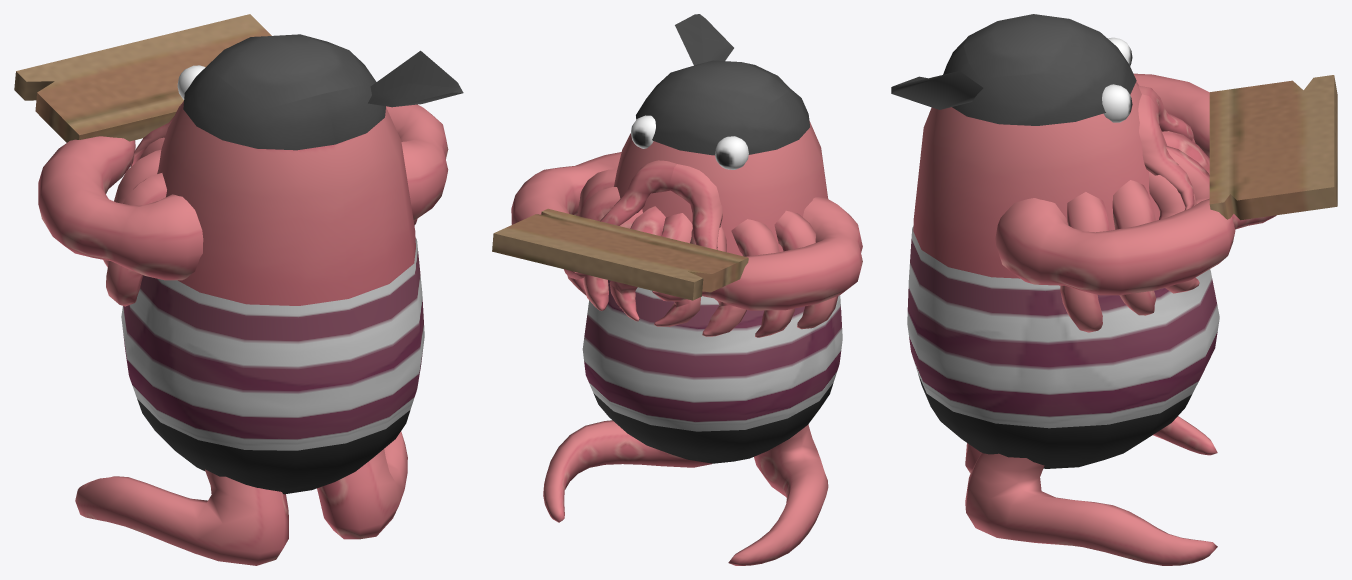
The model's file is tako_idle_c_07.fbx.
The picture shows the model from 3 angles, left to right: view 1: azimuth 30°, elevation 25°; view 2: azimuth 150°, elevation 25°; view 3: azimuth 270°, elevation 25°; orthographic projection. The views are drawn at different scales.
Visible parts, largest first — view 1: I_c_07; view 2: I_c_07; view 3: I_c_07.
Boxes of the visible parts, x1,y1,x2,y2 form: I_c_07: [14, 14, 463, 565]; I_c_07: [492, 14, 862, 565]; I_c_07: [891, 14, 1337, 565].
Bounding box in the file's own units: 1.38 × 1.68 × 1.42.
1 material, 1 textured.
